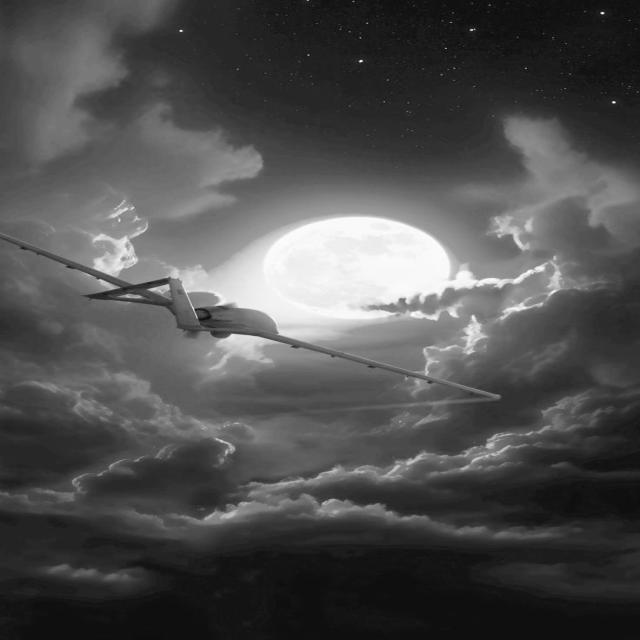iha: (21, 277, 499, 398), (0, 234, 53, 284)
